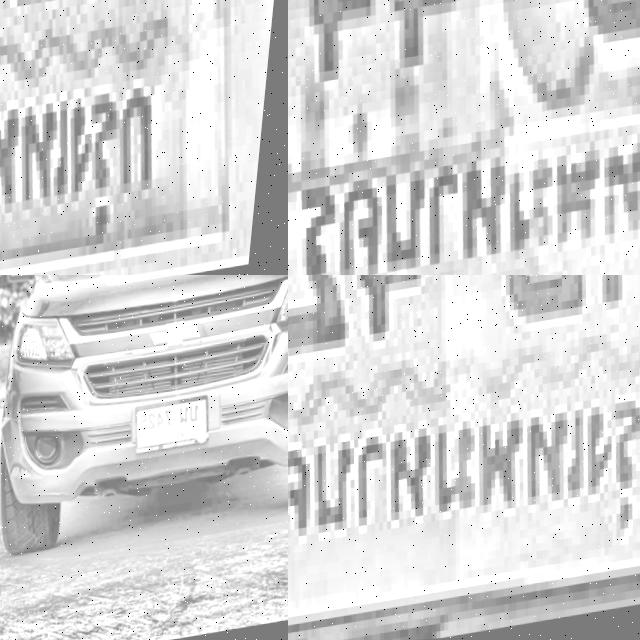license-plate: (288, 275, 640, 640), (288, 0, 640, 275), (0, 0, 288, 275), (136, 395, 222, 464)
